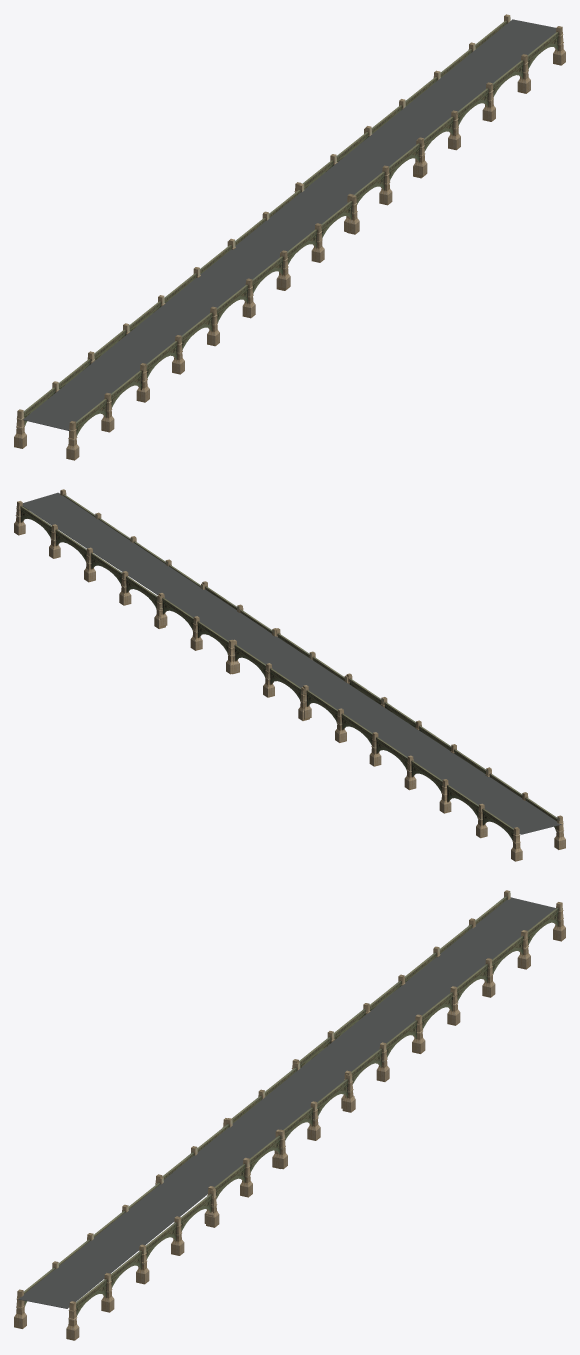
Rendered from bridge.fbx.
3 renders of one model, top to bottom at view 1: azimuth 90°, elevation 25°; view 2: azimuth 150°, elevation 25°; view 3: azimuth 270°, elevation 25°, orthographic. The views are drawn at different scales.
Parts seen in each view (by area): view 1: bridge.001; view 2: bridge.001; view 3: bridge.001.
Part boxes in pixels (<box>): bridge.001: <box>14,14,565,460</box>; bridge.001: <box>14,489,565,861</box>; bridge.001: <box>14,890,565,1340</box>.
Size of the model in its own units: 25822 by 1127 by 14540.
Materials: 15 (14 with a texture image).
